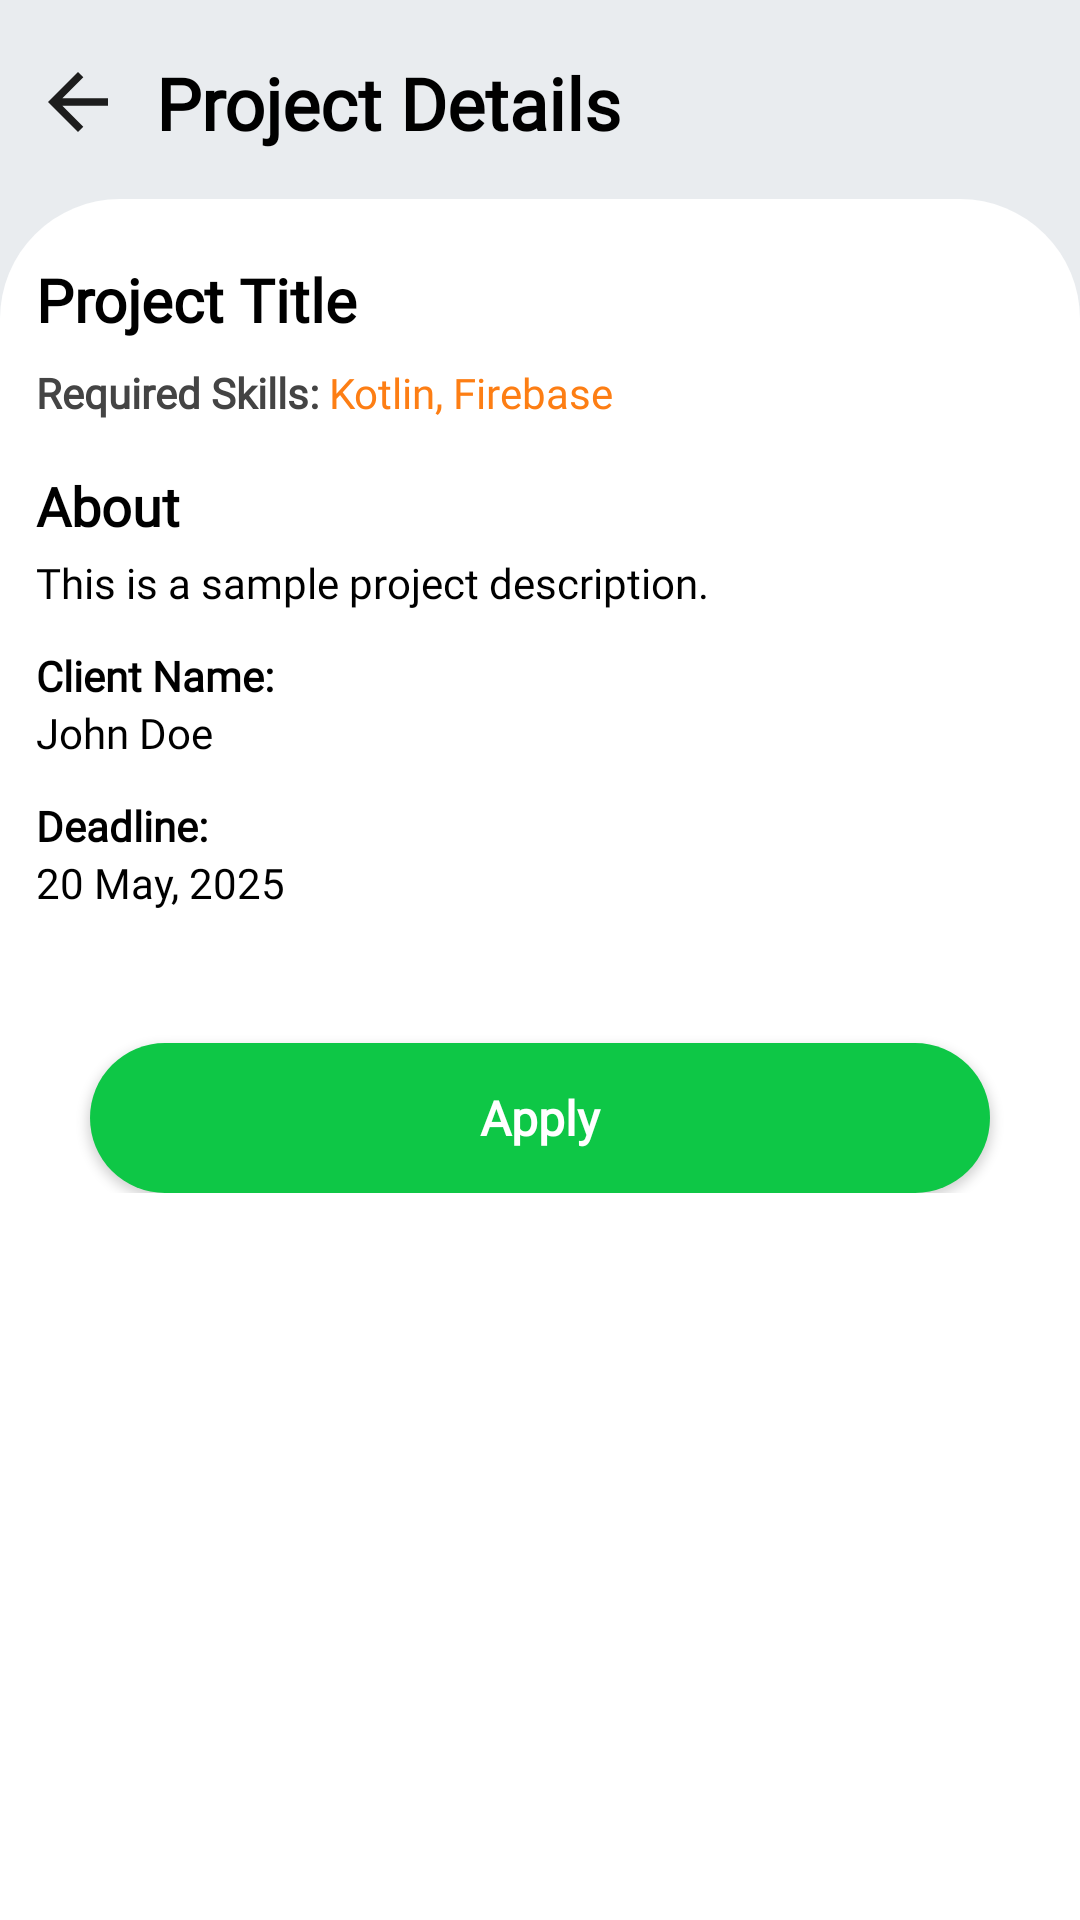

Screen size 1080 × 1920. Icon name, then its center in pixels as (x,y):
back: (78,102)
